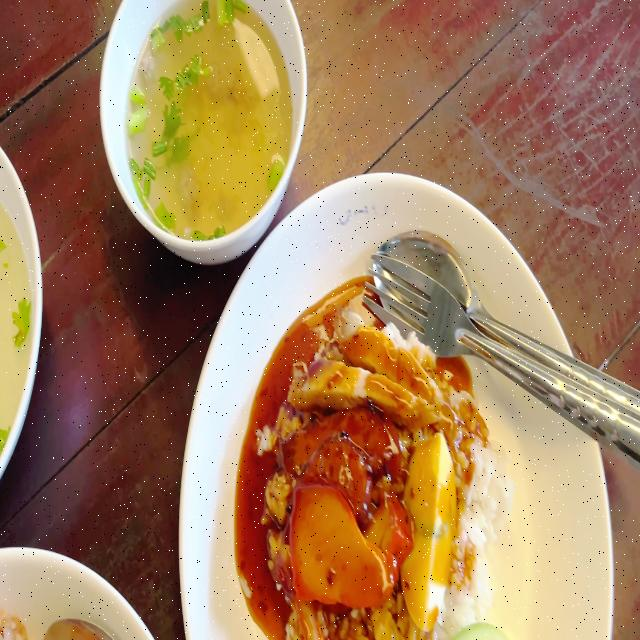boiled_egg: (406, 428, 452, 628)
chainese_sausage: (296, 408, 402, 497)
crispy_pork: (295, 318, 439, 420)
cucumber: (452, 614, 509, 640)
red_pork: (289, 482, 406, 604)
red_pork_and_crispy_pork: (272, 307, 508, 640)
